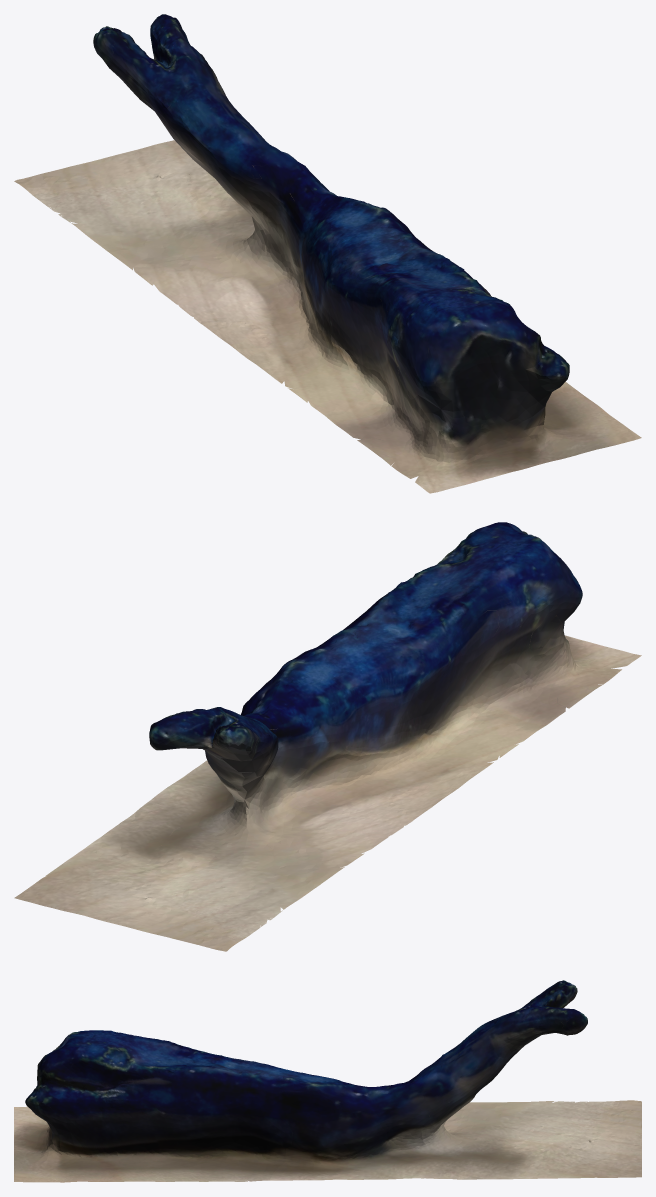
The model's file is valen (3).glb.
3 renders of one model, top to bottom at view 1: azimuth 30°, elevation 25°; view 2: azimuth 150°, elevation 25°; view 3: azimuth 270°, elevation 25°, orthographic. The views are drawn at different scales.
Parts seen in each view (by area): view 1: f23bf497-f221-4062-928f-a73c1e184551; view 2: f23bf497-f221-4062-928f-a73c1e184551; view 3: f23bf497-f221-4062-928f-a73c1e184551.
Boxes of the visible parts, x1,y1,x2,y2 form: f23bf497-f221-4062-928f-a73c1e184551: (14, 14, 641, 493); f23bf497-f221-4062-928f-a73c1e184551: (14, 522, 641, 951); f23bf497-f221-4062-928f-a73c1e184551: (14, 980, 641, 1182).
Bounding box in the file's own units: 0.3779 × 0.3176 × 1.28.
Materials: 1 (1 with a texture image).
